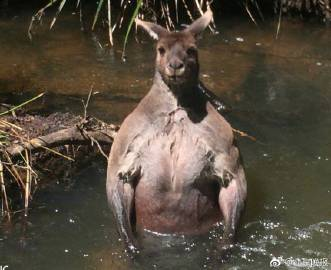kangaroo: (104, 10, 250, 267)
